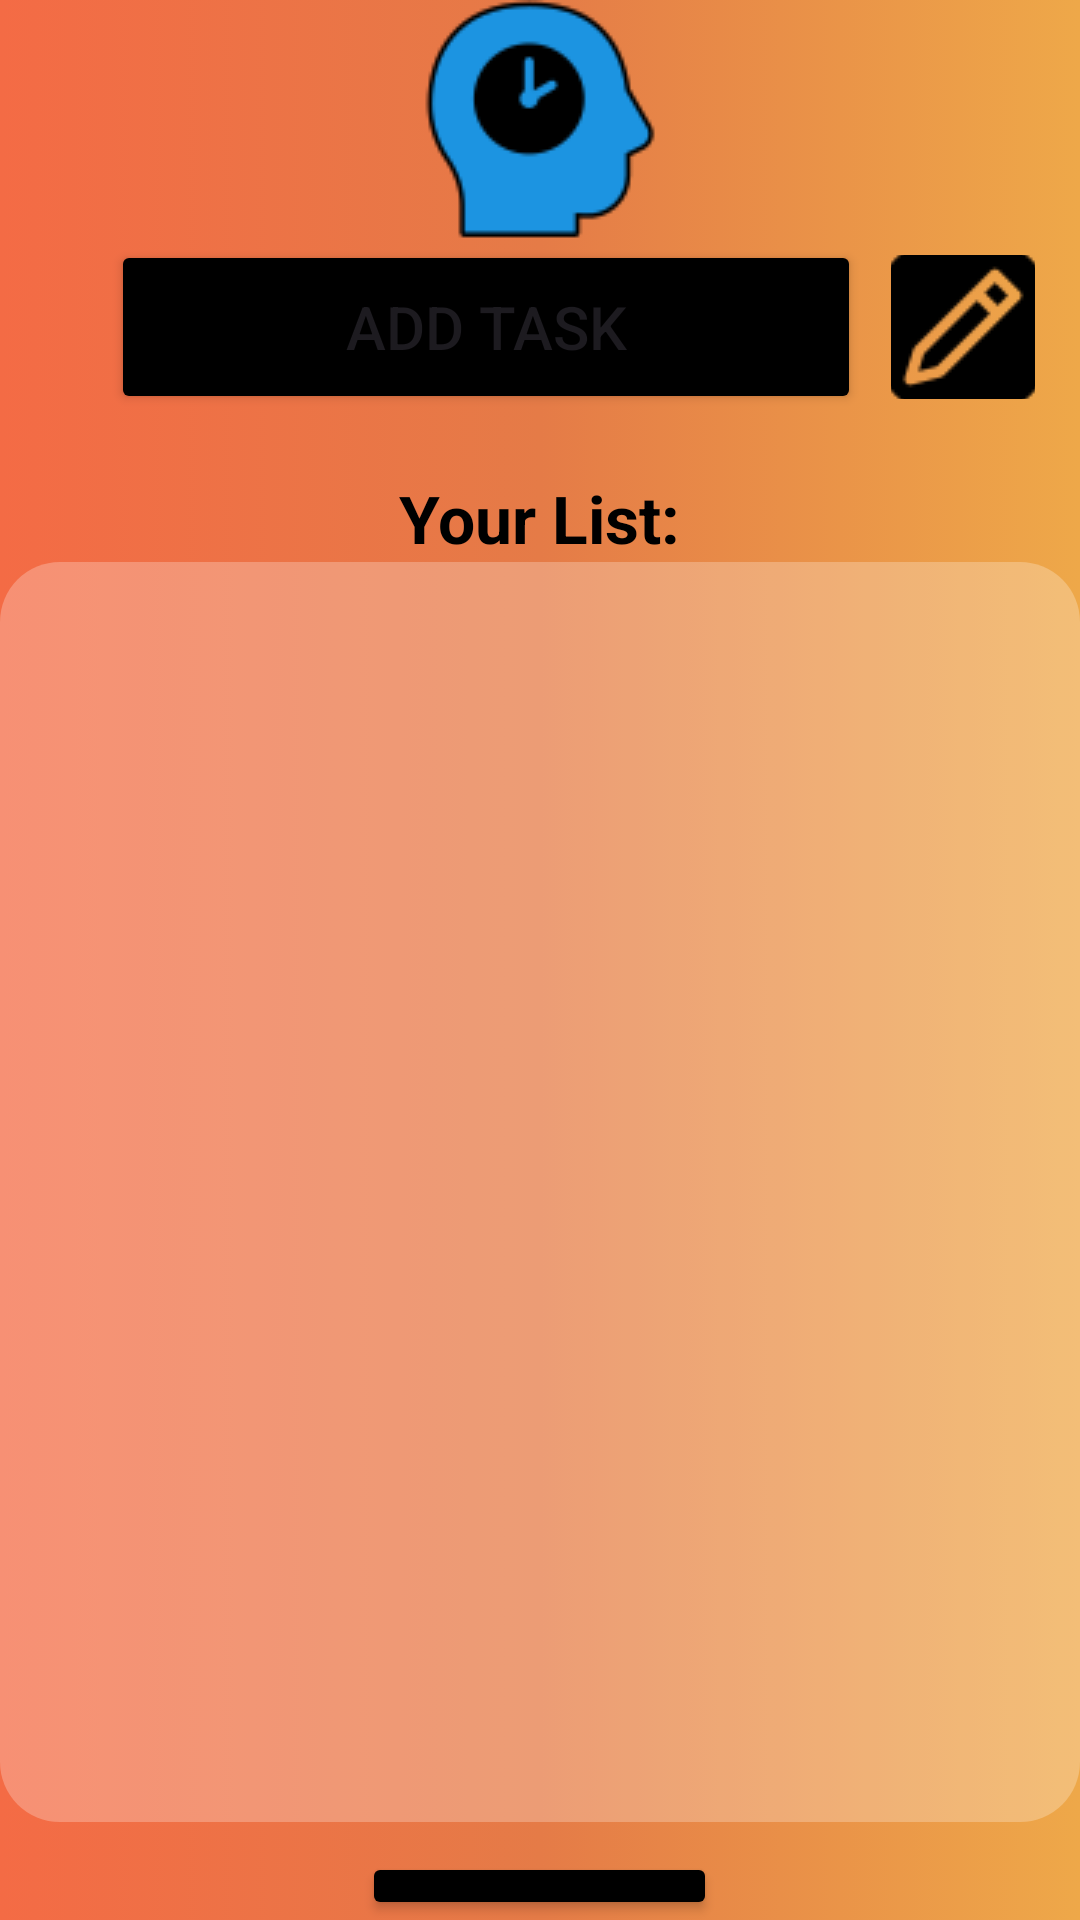

Icon bounding boxes for this 1080×1920 phone screenshot, format detection(x1, y1, x2, y2):
edit Mode: detection(891, 255, 1035, 399)
icon showing management: detection(425, 0, 655, 238)
